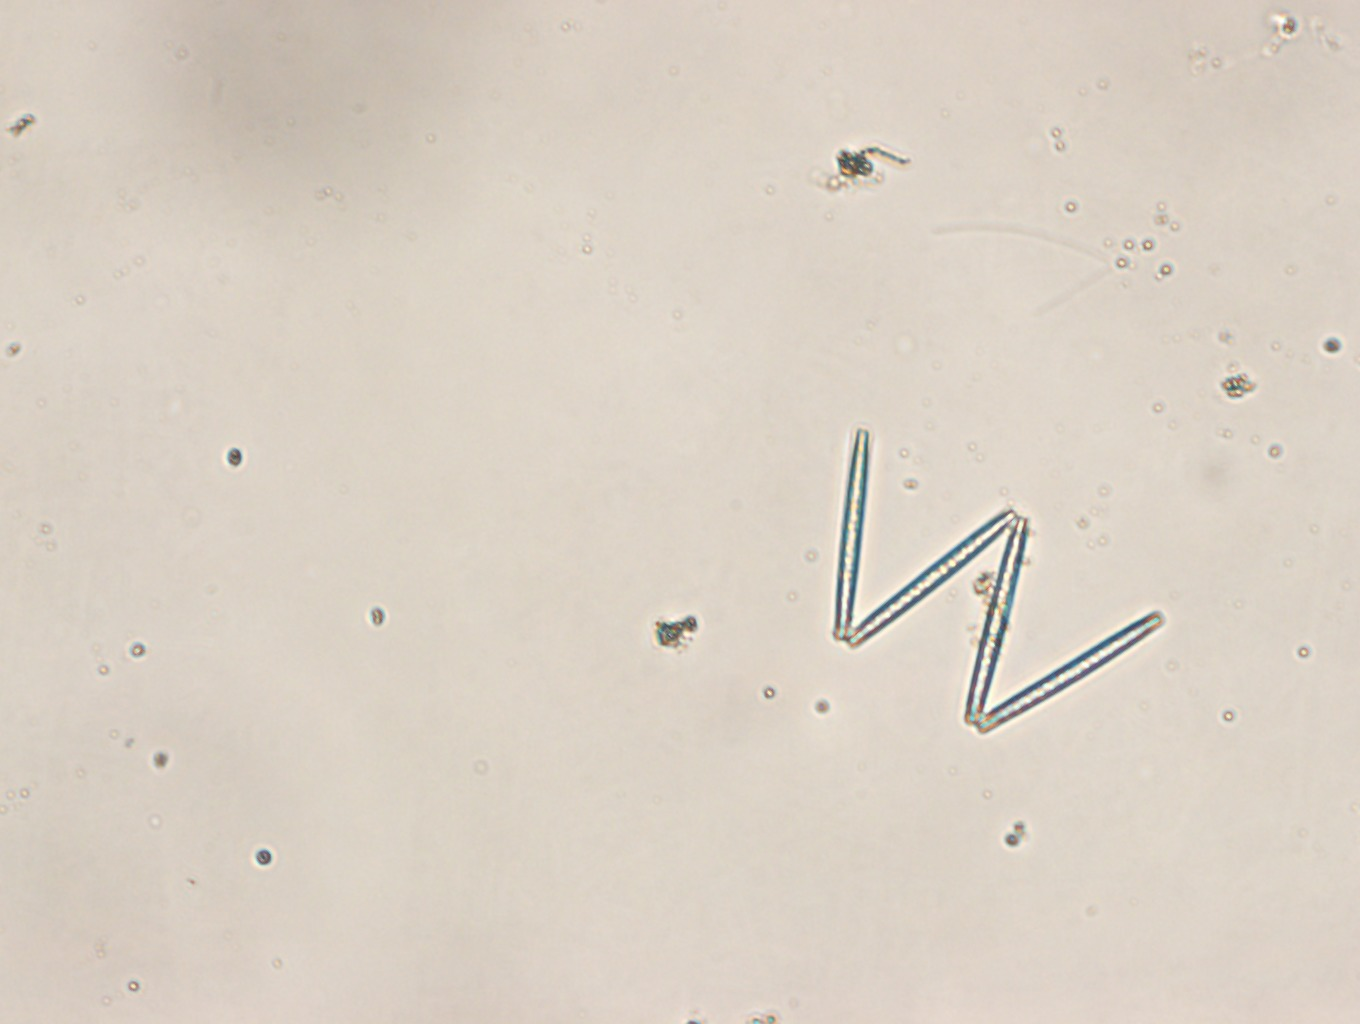thalassionema nitzschioides: (827, 424, 1168, 735)
